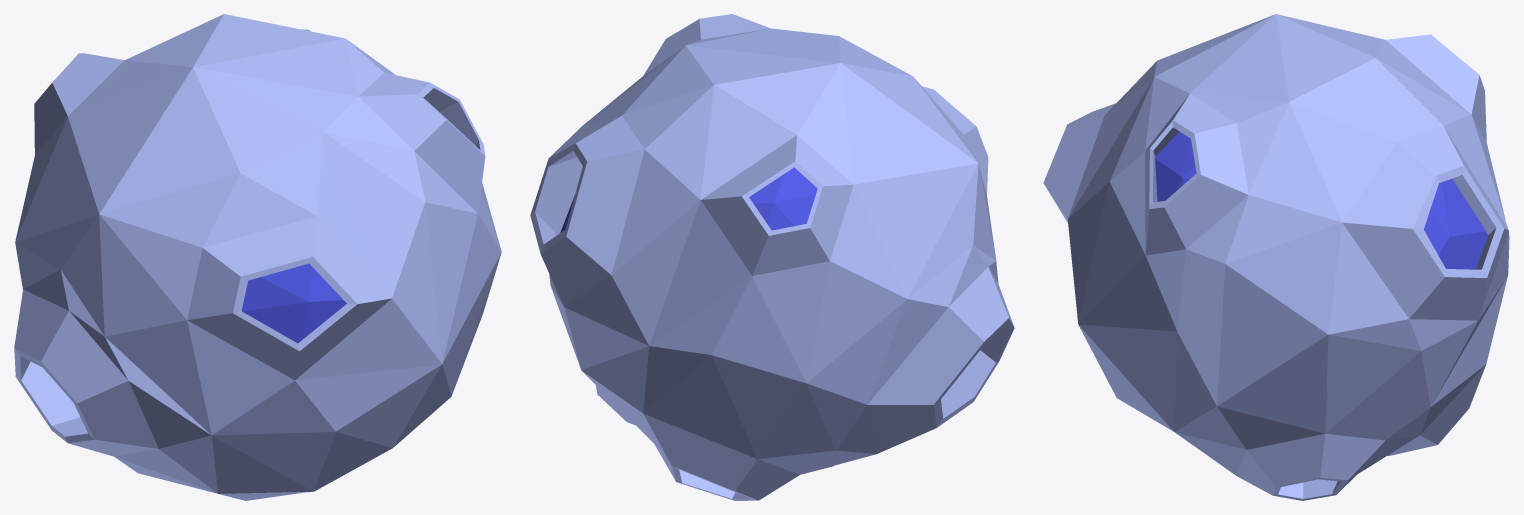
File: Planet_01_b.fbx
3 renders of one model, left to right at view 1: azimuth 30°, elevation 25°; view 2: azimuth 150°, elevation 25°; view 3: azimuth 270°, elevation 25°, orthographic. The views are drawn at different scales.
Visible parts, largest first — view 1: Planet_012; view 2: Planet_012; view 3: Planet_012.
Boxes of the visible parts, x1,y1,x2,y2 form: Planet_012: (14, 14, 501, 500); Planet_012: (530, 14, 1014, 500); Planet_012: (1043, 14, 1509, 500).
Bounding box in the file's own units: 70.38 × 65.93 × 66.79.
